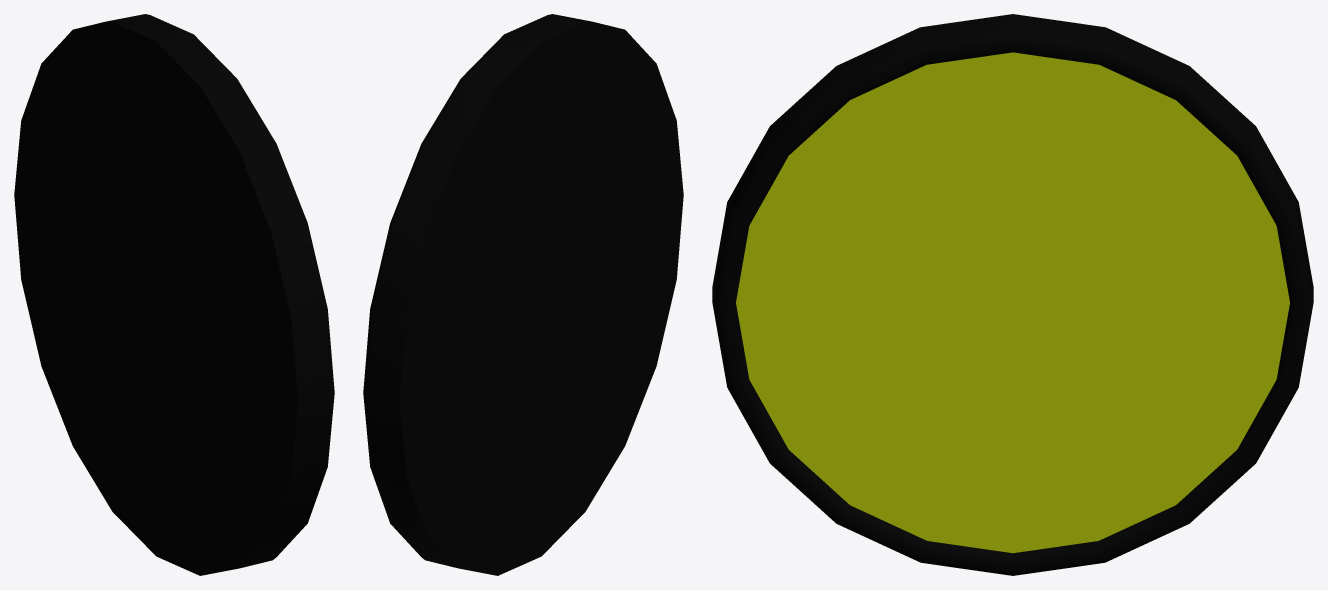
File: SM_Target.fbx
3 renders of one model, left to right at view 1: azimuth 30°, elevation 25°; view 2: azimuth 150°, elevation 25°; view 3: azimuth 270°, elevation 25°, orthographic. The views are drawn at different scales.
Visible parts, largest first — view 1: pCylinder1; view 2: pCylinder1; view 3: pCylinder1.
Boxes of the visible parts, x1,y1,x2,y2 form: pCylinder1: (14,14,334,575); pCylinder1: (363,14,683,575); pCylinder1: (712,14,1313,575).
Bounding box in the file's own units: 4.4 × 55.01 × 55.01.
